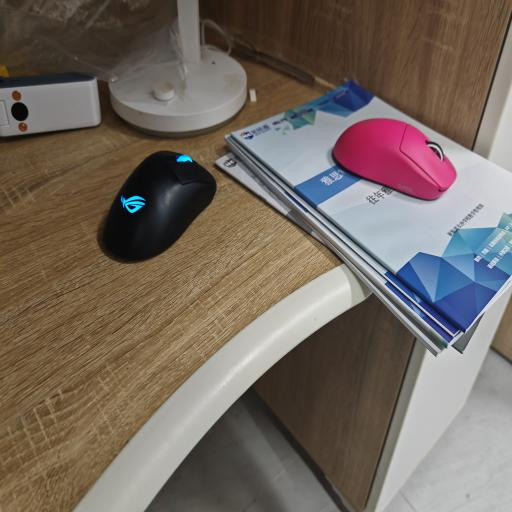mouse: (104, 151, 216, 259), (333, 118, 456, 200)
